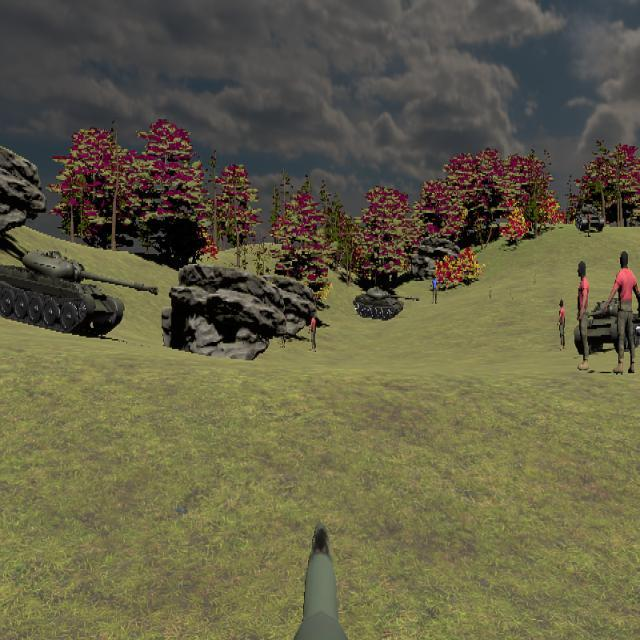Human: (606, 250, 640, 373), (576, 263, 590, 368), (558, 299, 567, 352)
Tank: (1, 250, 159, 338), (353, 286, 419, 321), (576, 202, 604, 233)
